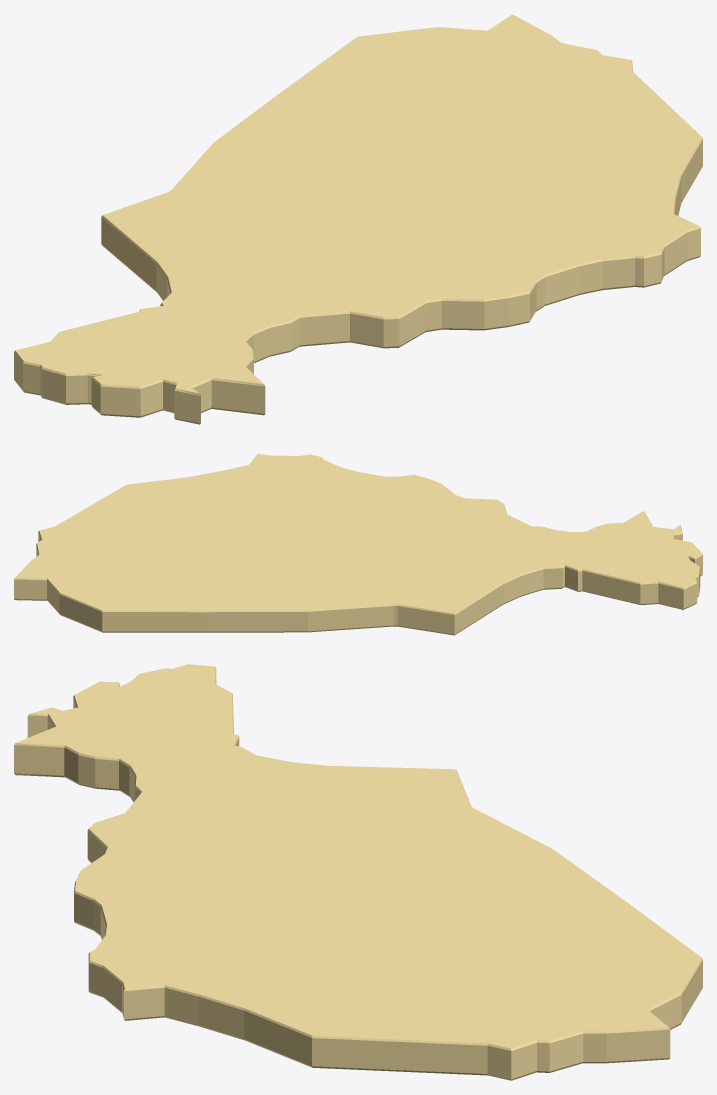
Rendered from NER.glb.
3 renders of one model, top to bottom at view 1: azimuth 30°, elevation 25°; view 2: azimuth 150°, elevation 25°; view 3: azimuth 270°, elevation 25°, orthographic. The views are drawn at different scales.
Size of the model in its own units: 1.75 by 0.068 by 1.32.
